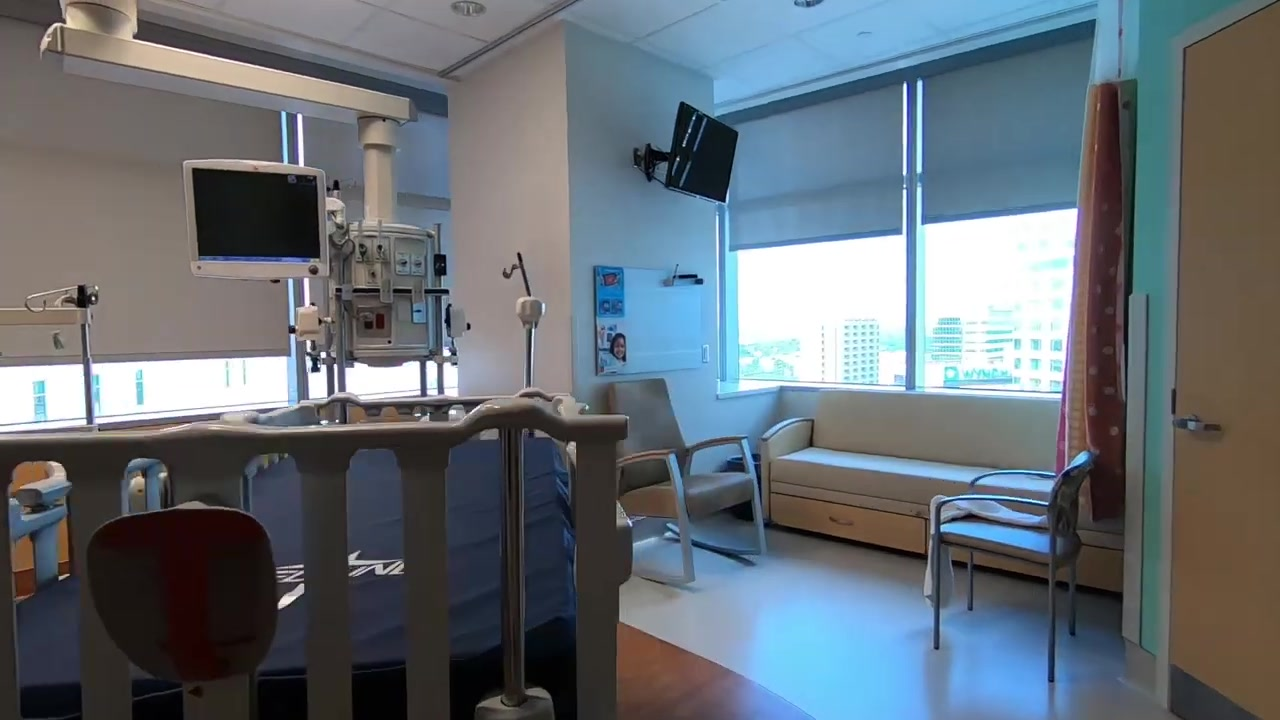TV: (664, 97, 740, 207)
bedrail: (2, 420, 616, 720)
bedside_monitor: (179, 157, 329, 283)
chair: (923, 450, 1094, 683), (604, 378, 768, 588)
curtain: (1051, 78, 1134, 520)
door_handle: (1183, 414, 1225, 436)
handle: (825, 513, 854, 528)
hospital_bed: (1, 389, 630, 720)
iv_pole: (27, 280, 110, 424), (504, 254, 541, 387)
sofa: (753, 388, 1126, 597)
waste_bin: (724, 454, 765, 521)
